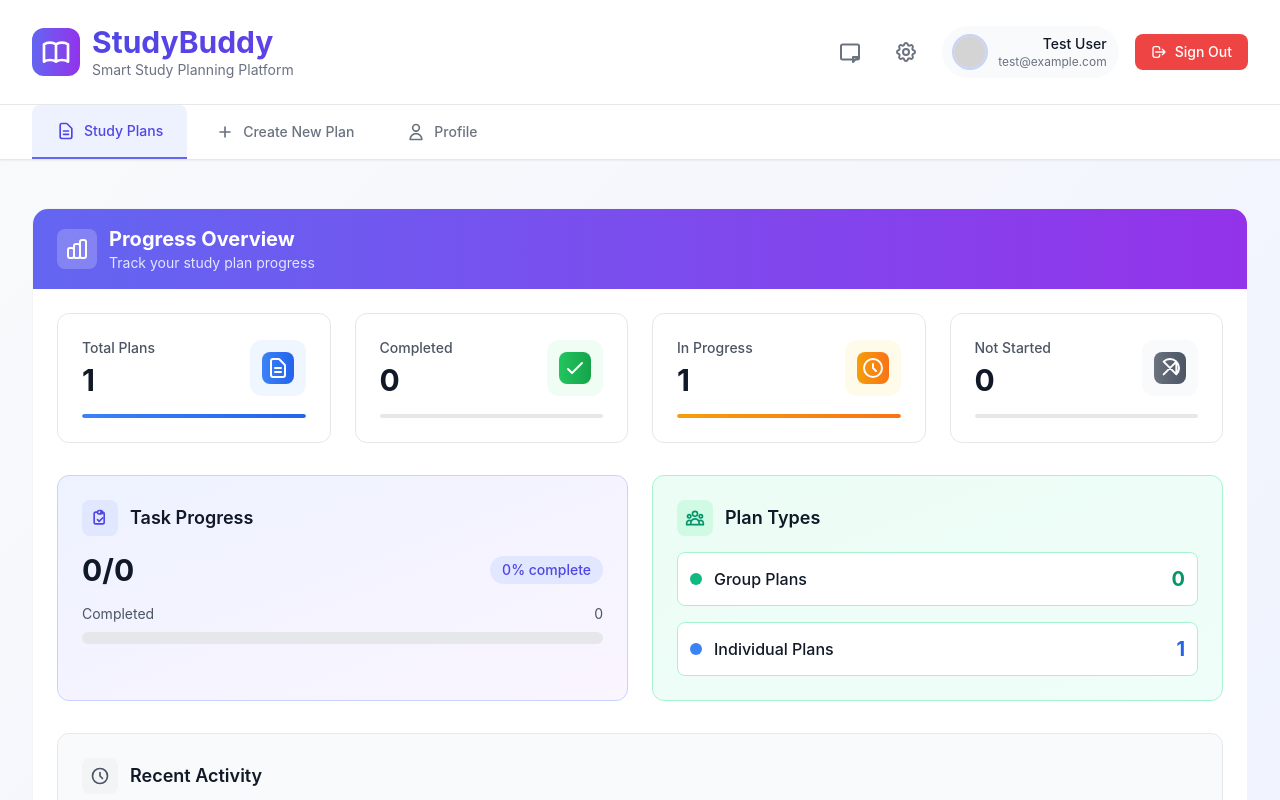
Dashboard › opens notification settings when settings button is clicked
Step 1. Click the button named "Notification Settings" → x=906, y=52, box x1=886 y1=32 x2=926 y2=72
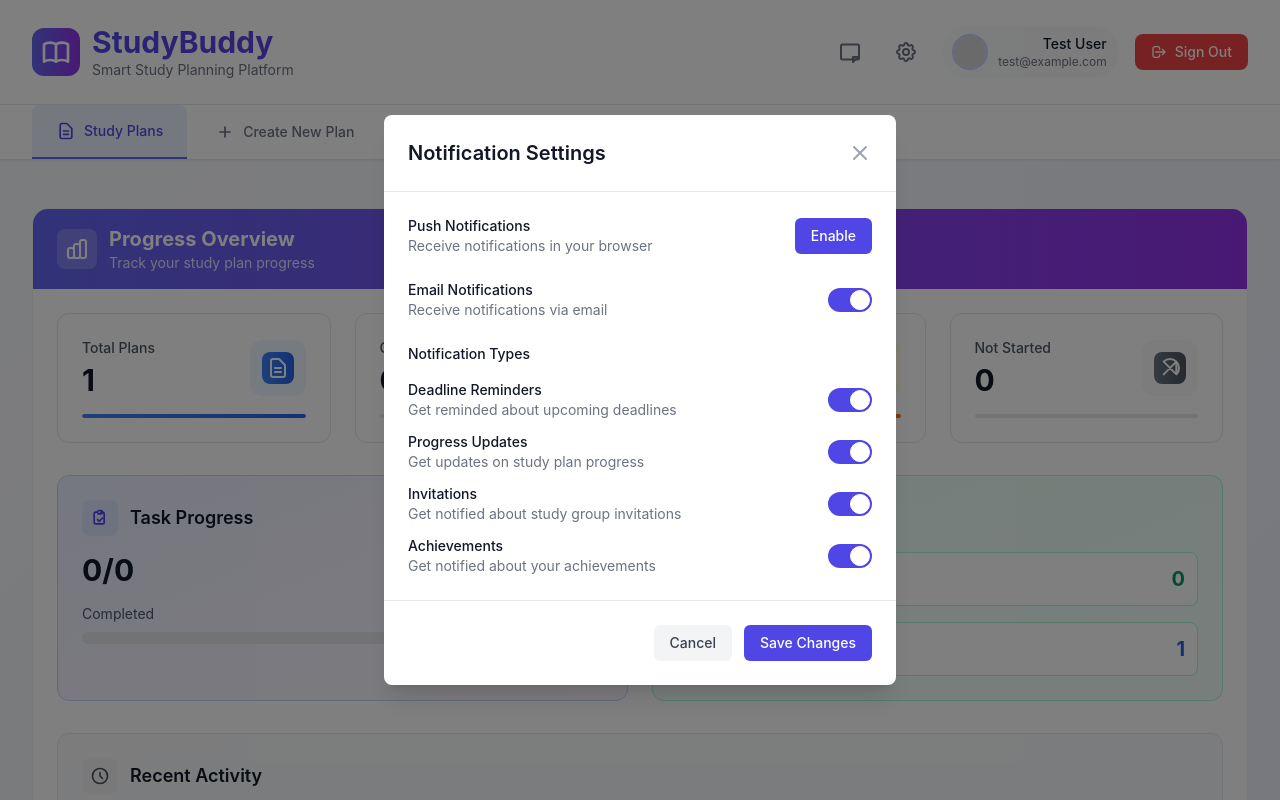
Now the heading "Notification Settings" is shown, box x1=408 y1=139 x2=606 y2=167
